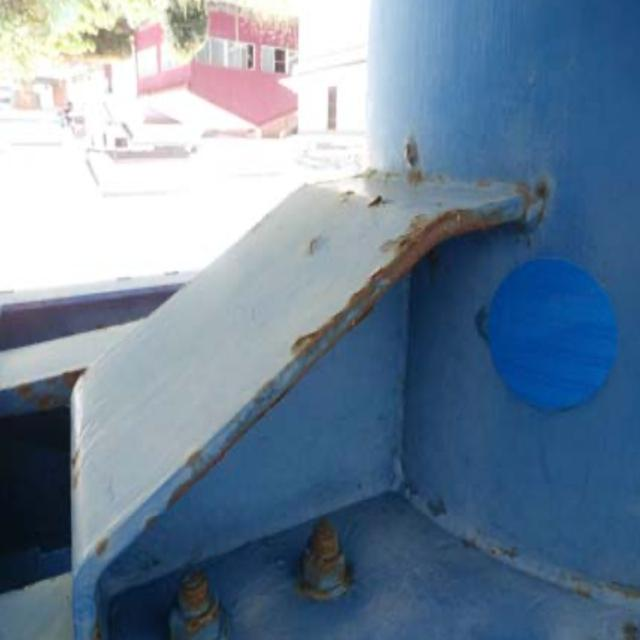corrosion: (273, 136, 536, 397), (137, 506, 367, 636)
